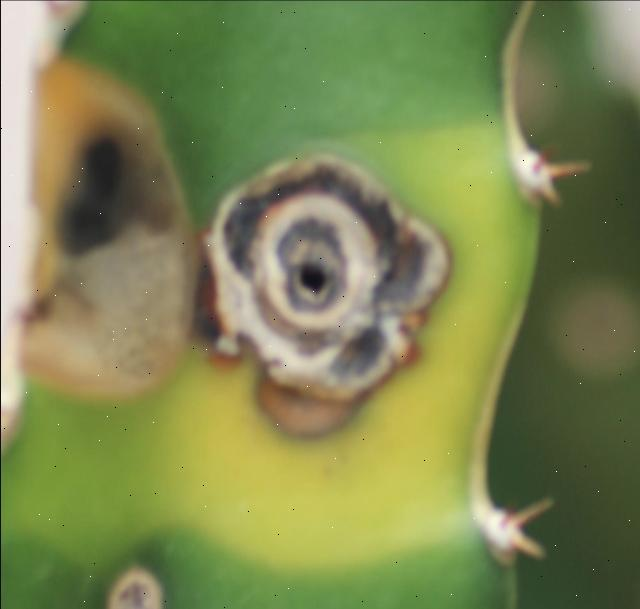stemcanker: (198, 136, 463, 450), (17, 66, 210, 406)
